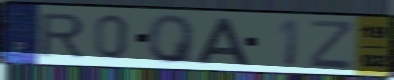0: (92, 13, 133, 62)
1: (276, 17, 300, 70)
A: (194, 17, 251, 66)
Q: (146, 13, 200, 65)
R: (38, 12, 87, 59)
Z: (307, 18, 355, 72)
